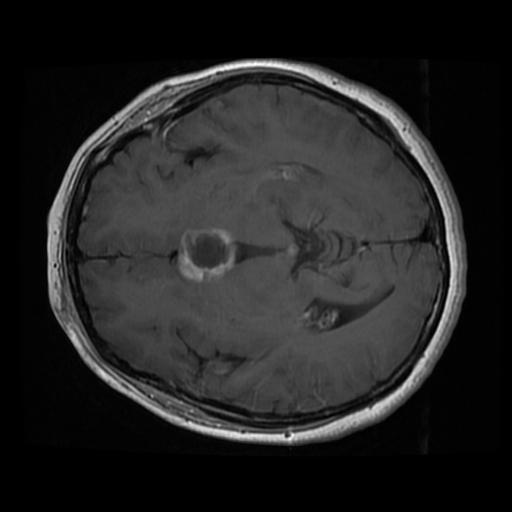pituitary tumour: (177, 227, 235, 283)
